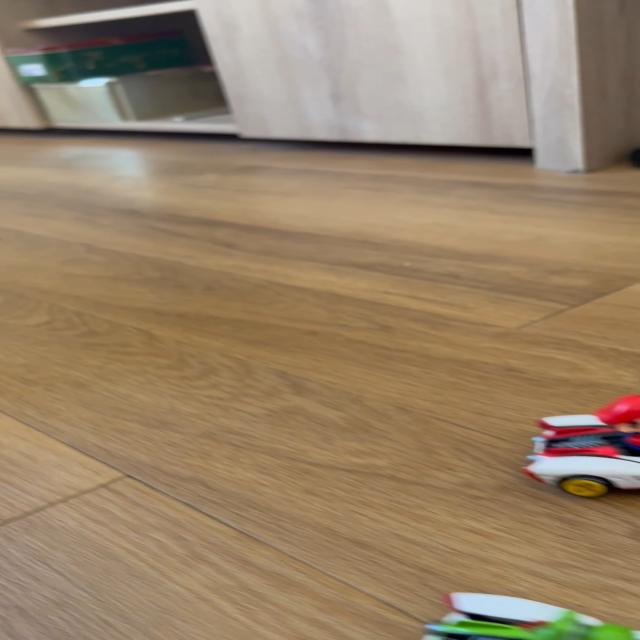mario: (505, 388, 639, 498)
yoshi: (379, 582, 640, 636)
